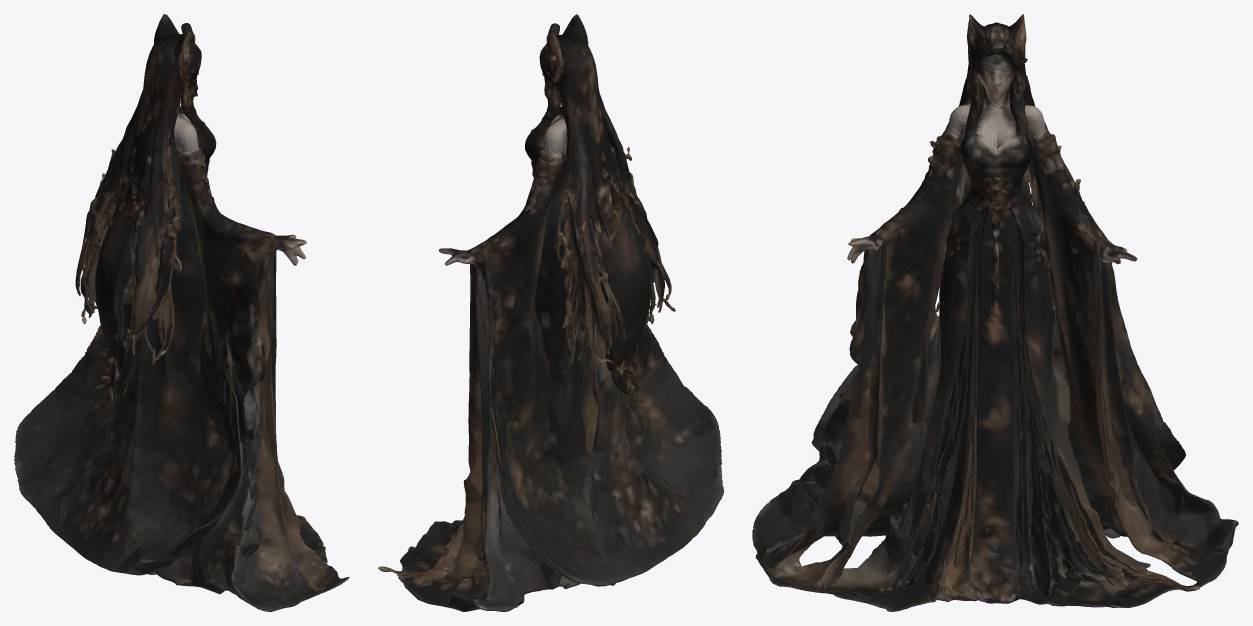
The model's file is daji.obj.
3 views of the same model, side by side, from view 1: azimuth 30°, elevation 25°; view 2: azimuth 150°, elevation 25°; view 3: azimuth 270°, elevation 25° (orthographic). The views are drawn at different scales.
Parts seen in each view (by area): view 1: tripo_node_7ababb38-d5c5-4059-9a7d-1978d9f2ea7a; view 2: tripo_node_7ababb38-d5c5-4059-9a7d-1978d9f2ea7a; view 3: tripo_node_7ababb38-d5c5-4059-9a7d-1978d9f2ea7a.
Boxes of the visible parts, x1,y1,x2,y2 form: tripo_node_7ababb38-d5c5-4059-9a7d-1978d9f2ea7a: (14, 14, 349, 611); tripo_node_7ababb38-d5c5-4059-9a7d-1978d9f2ea7a: (378, 14, 723, 611); tripo_node_7ababb38-d5c5-4059-9a7d-1978d9f2ea7a: (752, 14, 1238, 611).
Size of the model in its own units: 0.4207 by 1 by 0.7936.
